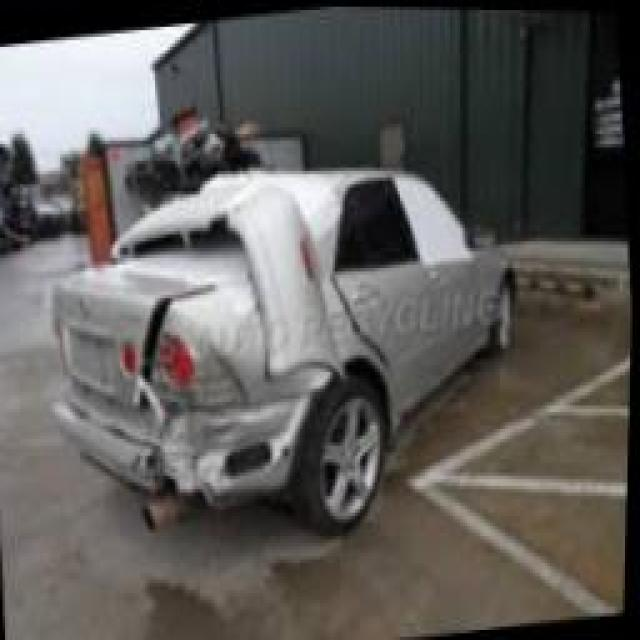replaceable: (42, 400, 315, 491), (115, 314, 235, 401)
